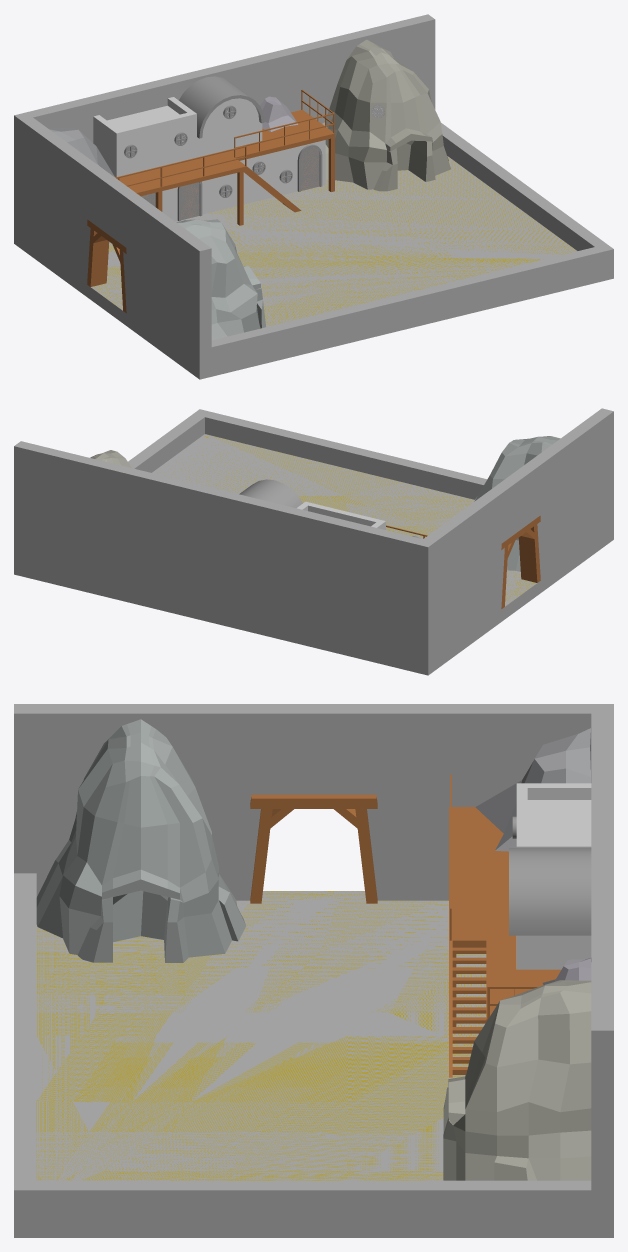
The model's file is AldeaMina.fbx.
The picture shows the model from 3 angles, top to bottom: view 1: azimuth 30°, elevation 25°; view 2: azimuth 150°, elevation 25°; view 3: azimuth 270°, elevation 25°; orthographic projection. The views are drawn at different scales.
Visible parts, largest first — view 1: group_9, group_10, herreria, group_0, tienda, group_1, group_1.001, group_11, group_8, piedra1, piedra2, group_21.001 (+2 smaller); view 2: group_9, group_10, tienda, group_8, group_11, group_0, herreria; view 3: group_9, group_10, tienda, herreria, group_1, group_0, group_11, group_8, piedra1, group_1.001, piedra2.
Part boxes in pixels (x1=…): group_9: x1=14, y1=14, x2=613, y2=379; group_10: x1=91, y1=156, x2=577, y2=326; herreria: x1=322, y1=39, x2=450, y2=191; group_0: x1=93, y1=97, x2=325, y2=220; tienda: x1=176, y1=219, x2=265, y2=340; group_1: x1=114, y1=110, x2=334, y2=192; group_1.001: x1=115, y1=133, x2=334, y2=225; group_11: x1=179, y1=76, x2=264, y2=138; group_8: x1=87, y1=219, x2=126, y2=313; piedra1: x1=49, y1=128, x2=114, y2=176; piedra2: x1=260, y1=96, x2=298, y2=131; group_21.001: x1=301, y1=147, x2=319, y2=190; group_9: x1=14, y1=408, x2=613, y2=675; group_10: x1=152, y1=434, x2=536, y2=606; tienda: x1=474, y1=436, x2=560, y2=571; group_8: x1=501, y1=515, x2=540, y2=608; group_11: x1=239, y1=479, x2=302, y2=508; group_0: x1=297, y1=501, x2=385, y2=529; herreria: x1=90, y1=450, x2=131, y2=467; group_9: x1=14, y1=704, x2=613, y2=1237; group_10: x1=36, y1=891, x2=516, y2=1180; tienda: x1=36, y1=719, x2=245, y2=962; herreria: x1=443, y1=980, x2=591, y2=1180; group_1: x1=449, y1=807, x2=560, y2=1019; group_0: x1=516, y1=783, x2=591, y2=969; group_11: x1=509, y1=848, x2=591, y2=935; group_8: x1=250, y1=794, x2=377, y2=903; piedra1: x1=475, y1=728, x2=590, y2=851; group_1.001: x1=450, y1=774, x2=487, y2=1026; piedra2: x1=542, y1=958, x2=591, y2=984.
Size of the model in its own units: 2060 by 610 by 1600.
